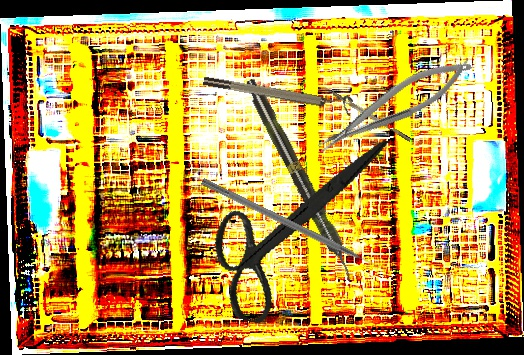Chopper: (317, 82, 412, 147)
Fixation Ring: (202, 67, 354, 117)
Handpiece: (241, 75, 360, 285)
Hook Surgical: (200, 178, 382, 273)
Iris Scissors: (197, 106, 391, 344)
Needle Holder: (308, 48, 480, 161)
